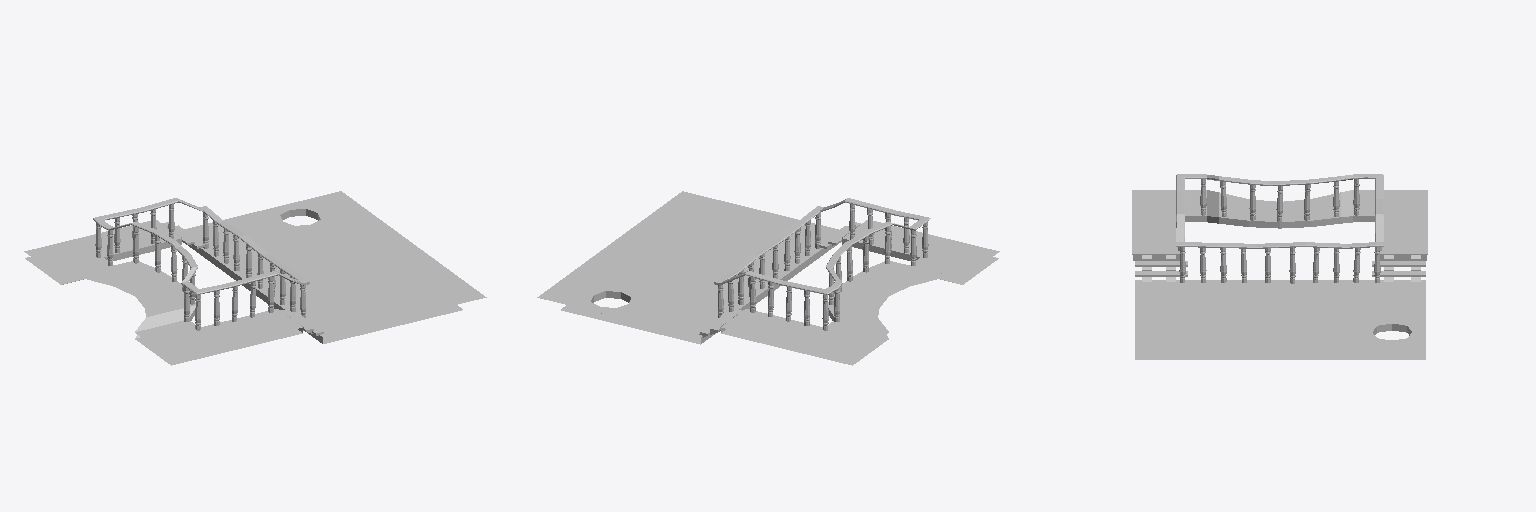
The model's file is upper.obj.
3 views of the same model, side by side, from view 1: azimuth 30°, elevation 25°; view 2: azimuth 150°, elevation 25°; view 3: azimuth 270°, elevation 25° (orthographic).
Parts seen in each view (by area): view 1: upper; view 2: upper; view 3: upper.
Boxes of the visible parts, <box> form: upper: <box>24,191,486,365</box>; upper: <box>537,191,999,365</box>; upper: <box>1132,174,1427,359</box>.
Bounding box in the file's own units: 17.51 × 3.59 × 14.15.